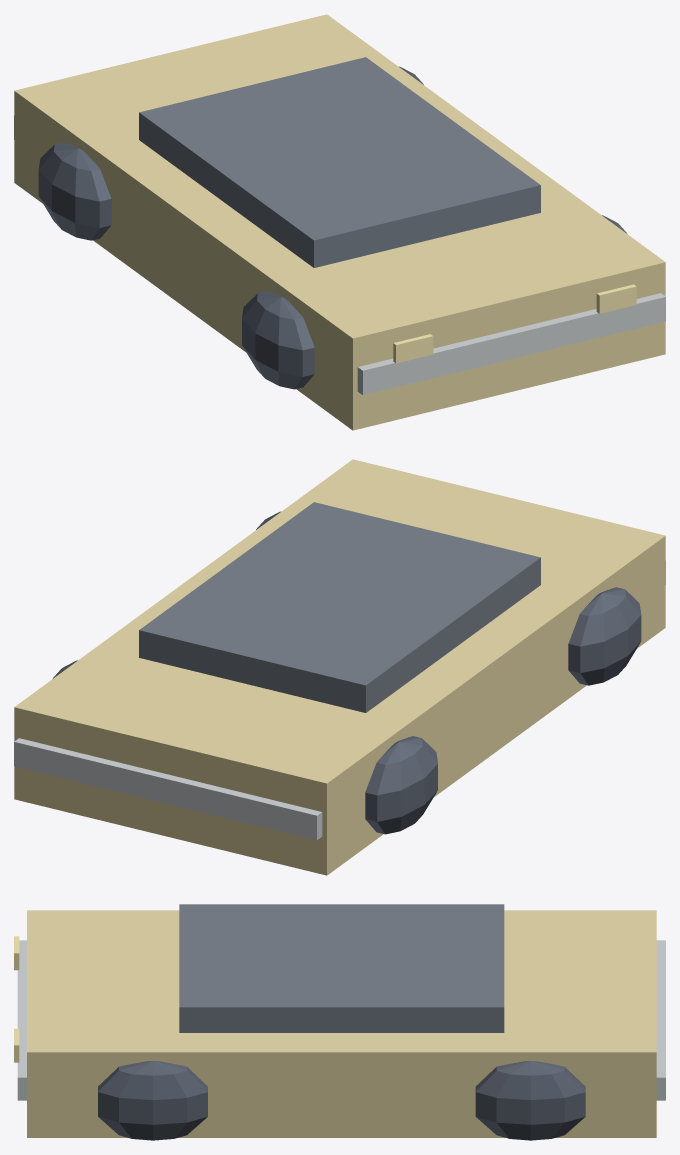
The model's file is auto_aplastado_amarillo.glb.
3 renders of one model, top to bottom at view 1: azimuth 30°, elevation 25°; view 2: azimuth 150°, elevation 25°; view 3: azimuth 270°, elevation 25°, orthographic. The views are drawn at different scales.
Parts seen in each view (by area): view 1: auto_aplastado_amarillo; view 2: auto_aplastado_amarillo; view 3: auto_aplastado_amarillo.
Boxes of the visible parts, left/top/right/bottom form: auto_aplastado_amarillo: left=14, top=14, right=665, bottom=430; auto_aplastado_amarillo: left=14, top=459, right=665, bottom=875; auto_aplastado_amarillo: left=14, top=904, right=665, bottom=1140.
Size of the model in its own units: 1.91 by 0.59 by 3.11.
